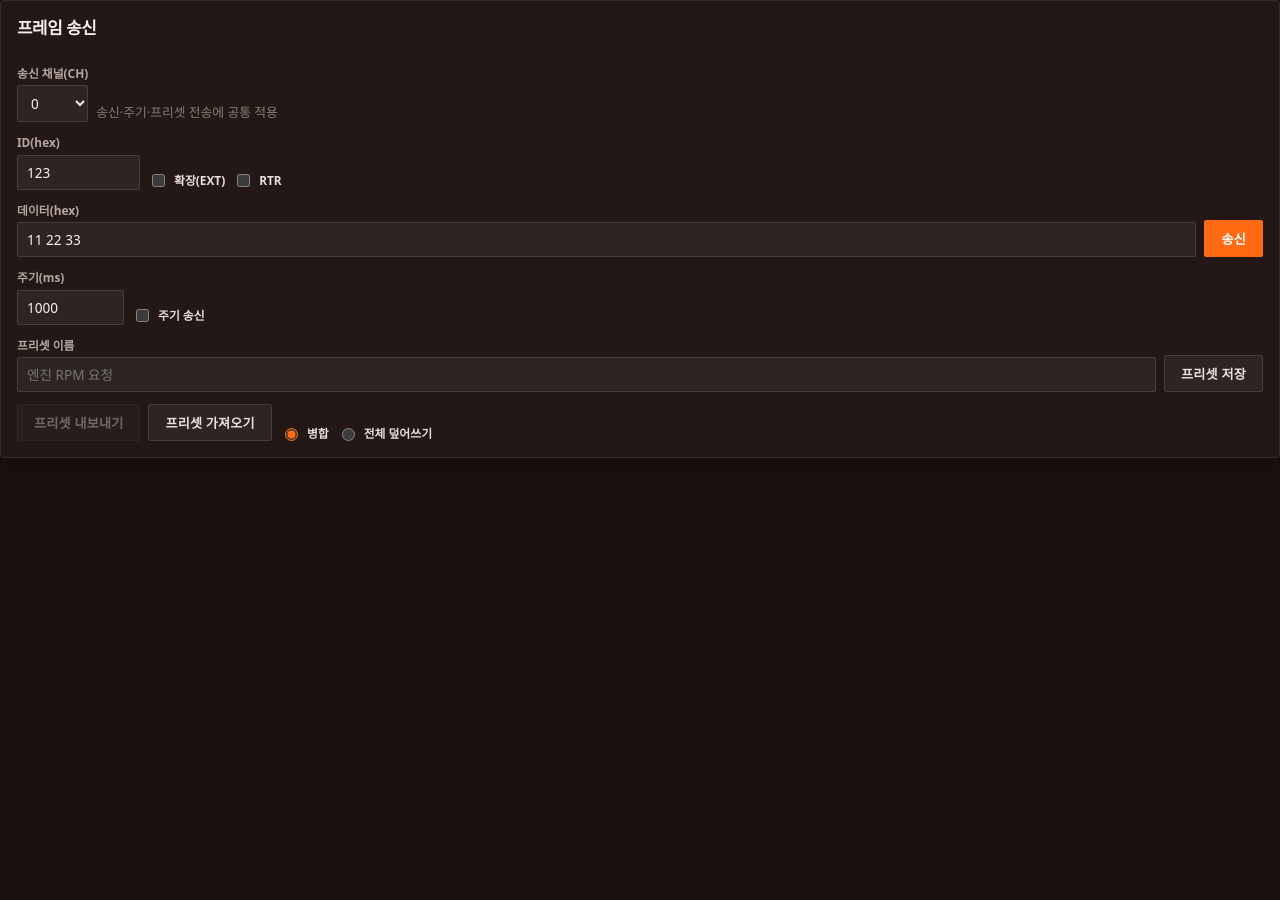
프리셋 저장 시 같은 이름 덮어쓰기 확인 › 같은 이름 저장 시 취소를 누르면 변화가 없다
The width and height of the screenshot is (1280, 900).
Step 1. Replace the text in the field labelled "ID(hex)" with "7DF" → (78, 172), box 17,155 -> 140,190
Step 2. Type "공통" into the field with placeholder "엔진 RPM 요청" → (587, 375), box 17,357 -> 1156,392
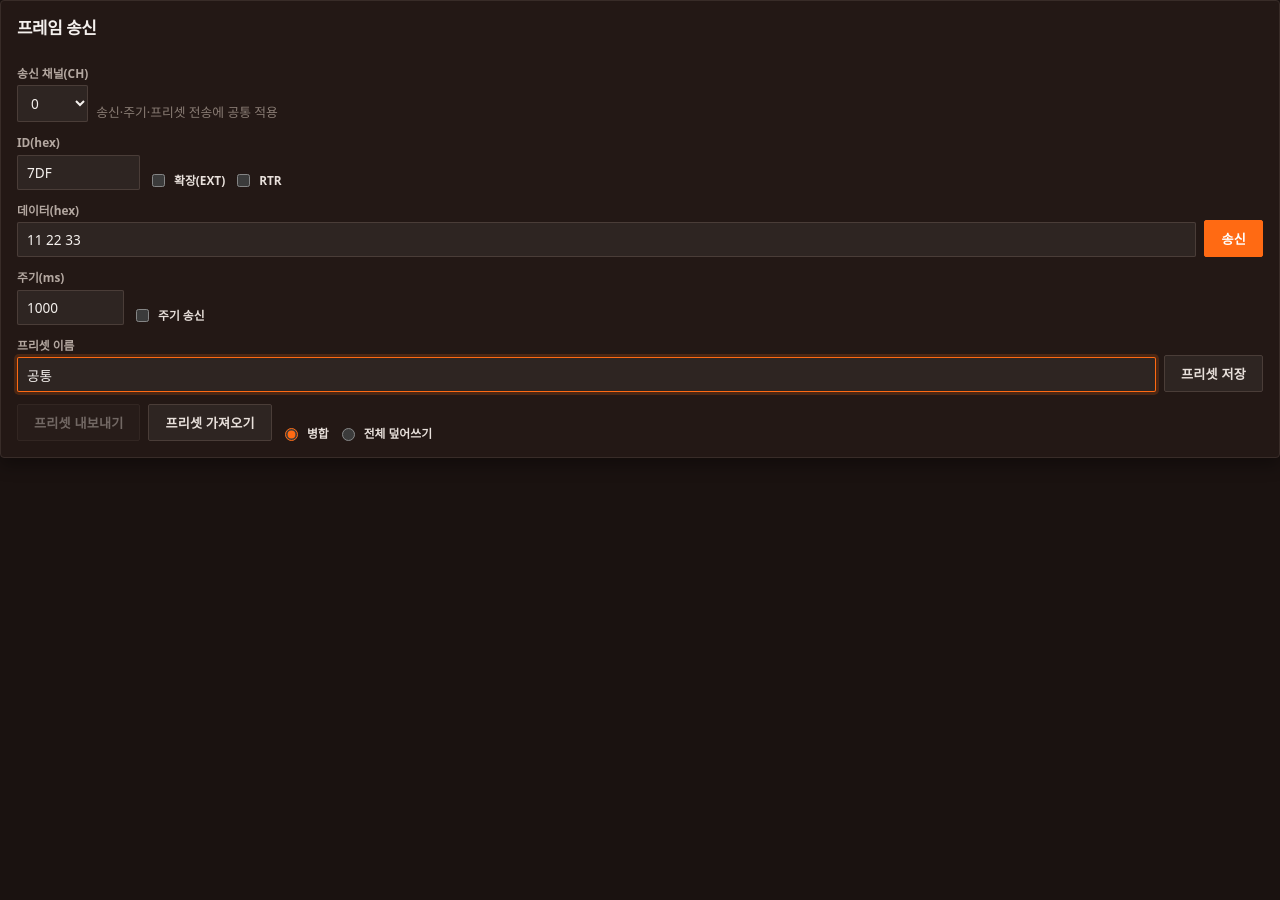
Step 3. Click the button "프리셋 저장" → click(1214, 374), box 1164,355 -> 1263,392
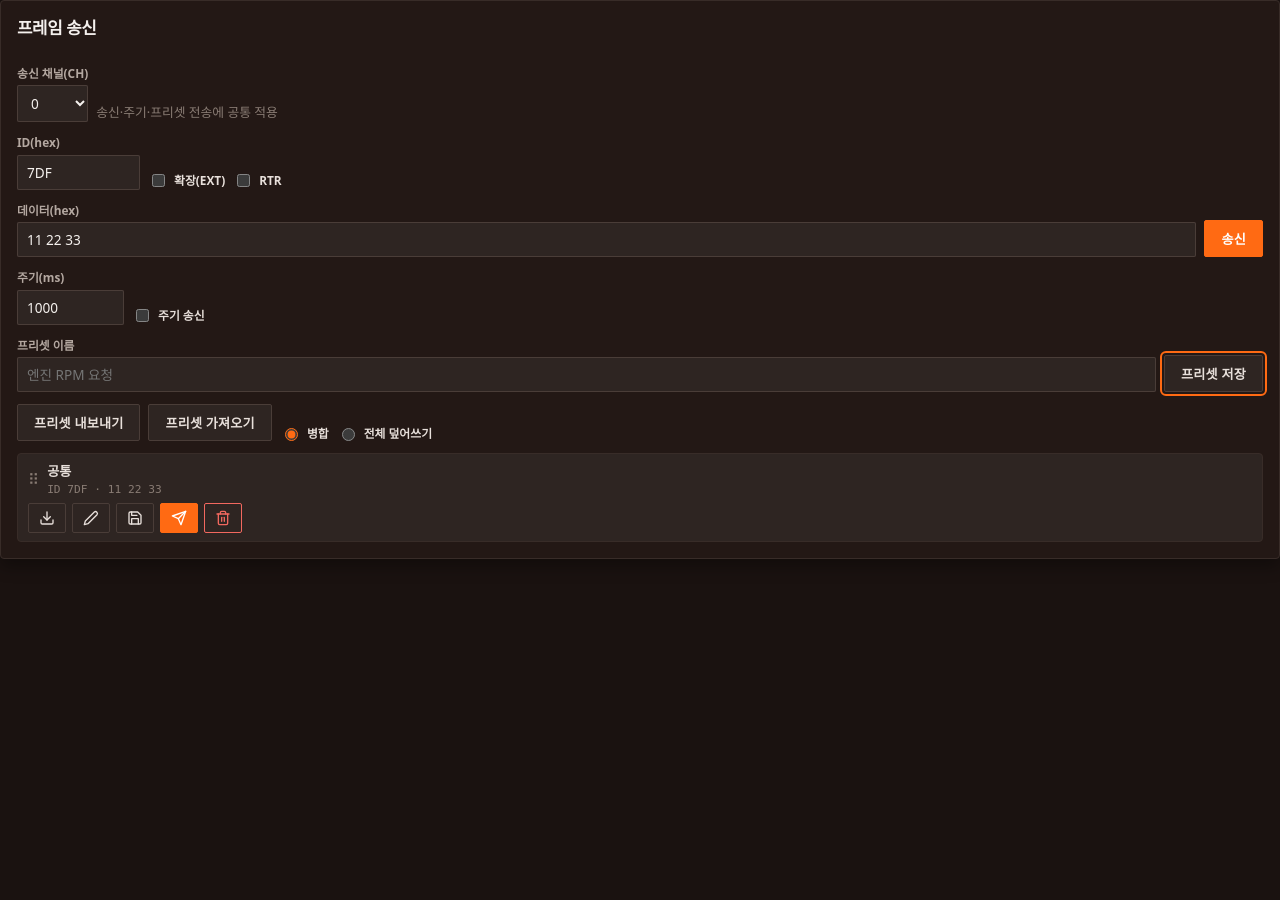
Step 4. Replace the text in the field labelled "ID(hex)" with "555" → (78, 172), box 17,155 -> 140,190
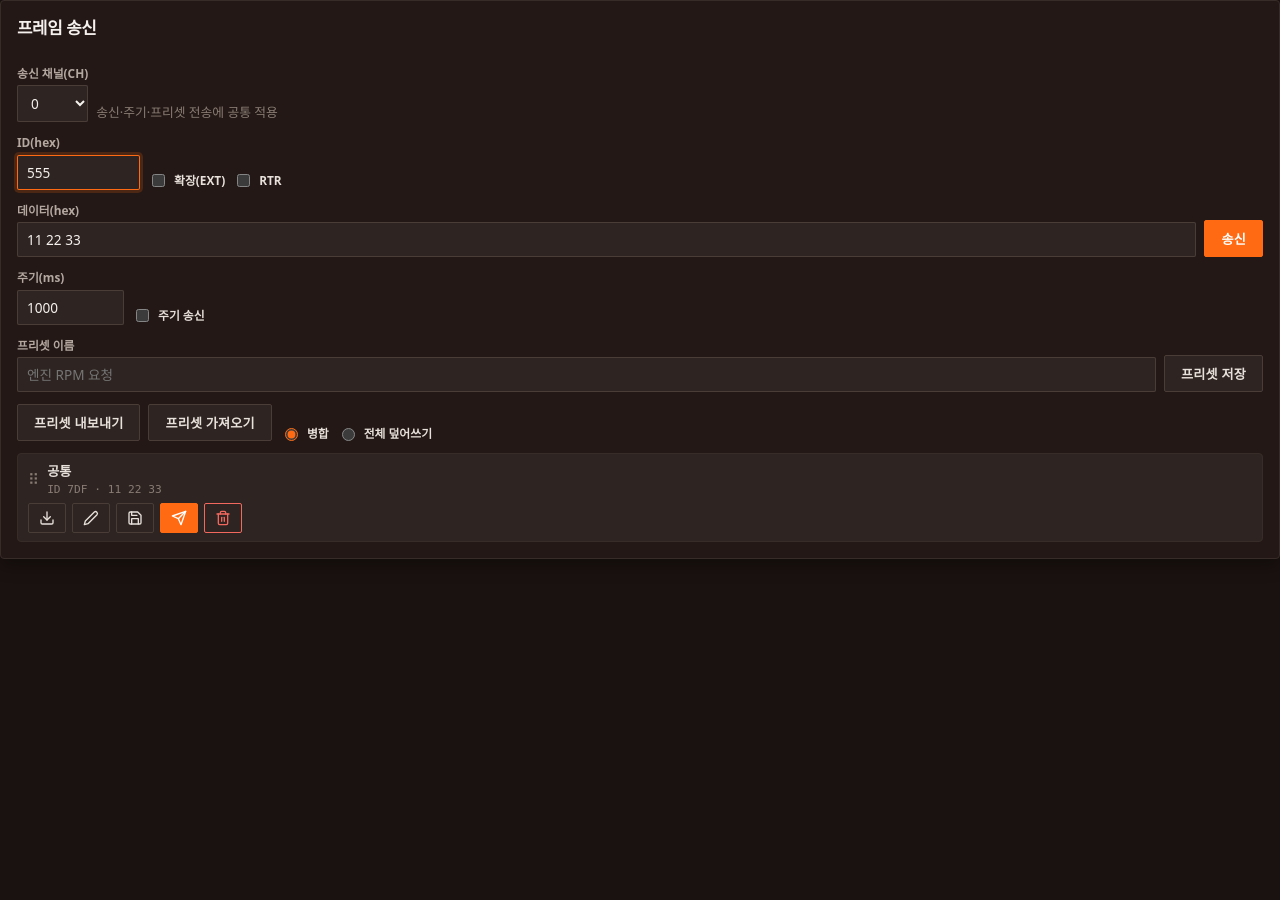
Step 5. Type "공통" into the field with placeholder "엔진 RPM 요청" → (587, 375), box 17,357 -> 1156,392
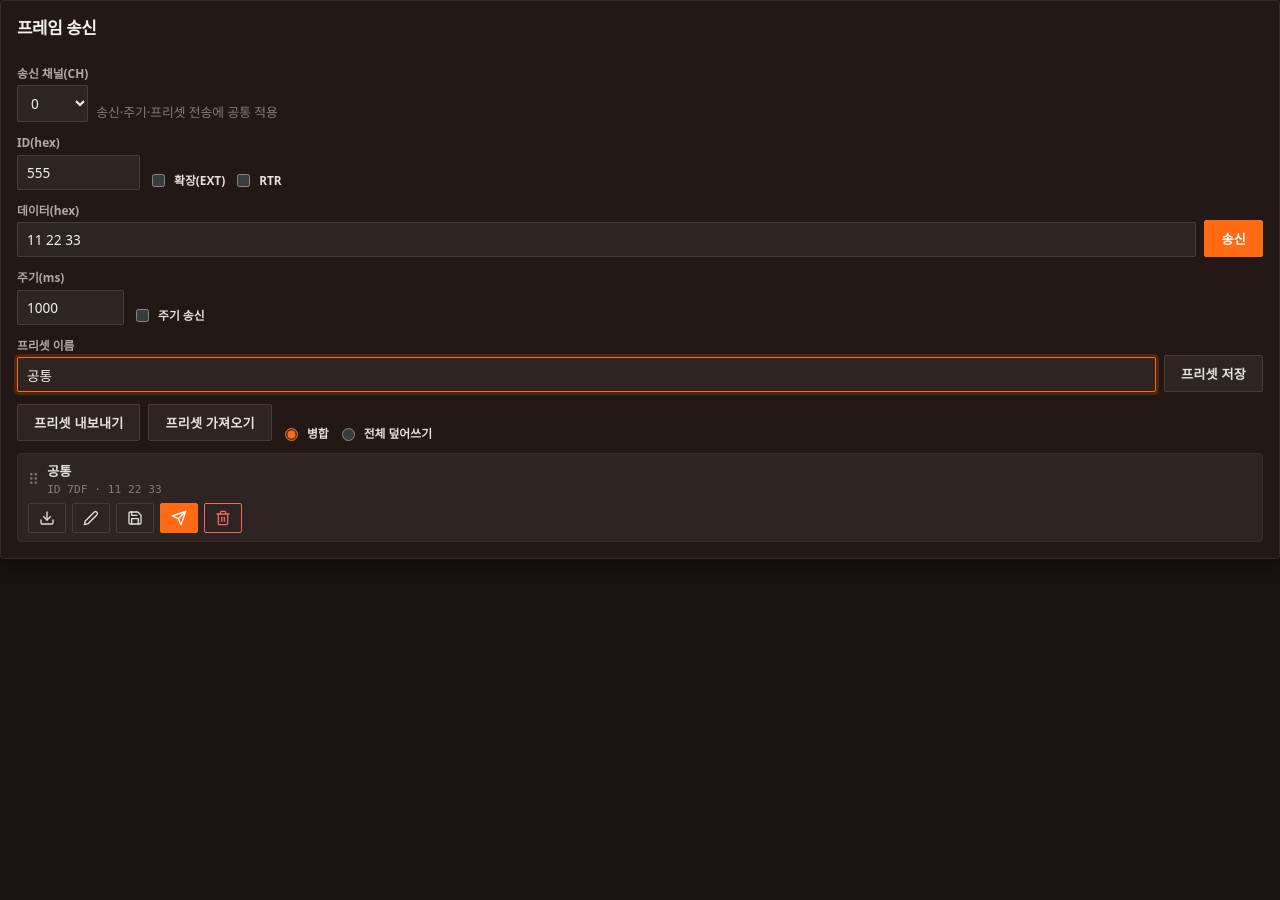
Step 6. Click the button "프리셋 저장" → click(1214, 374), box 1164,355 -> 1263,392
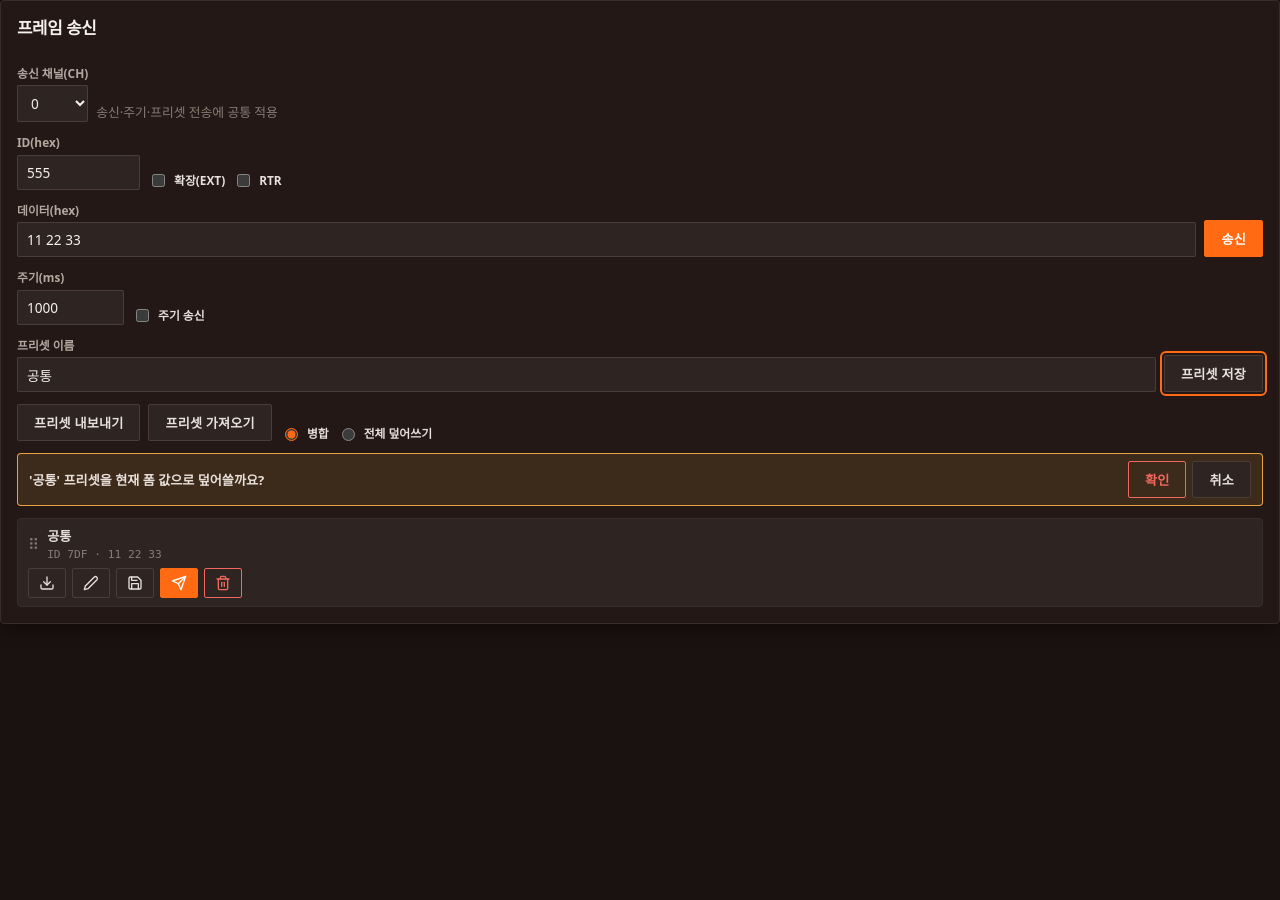
Step 7. Click the button "취소" → click(1222, 480), box 1192,461 -> 1251,498
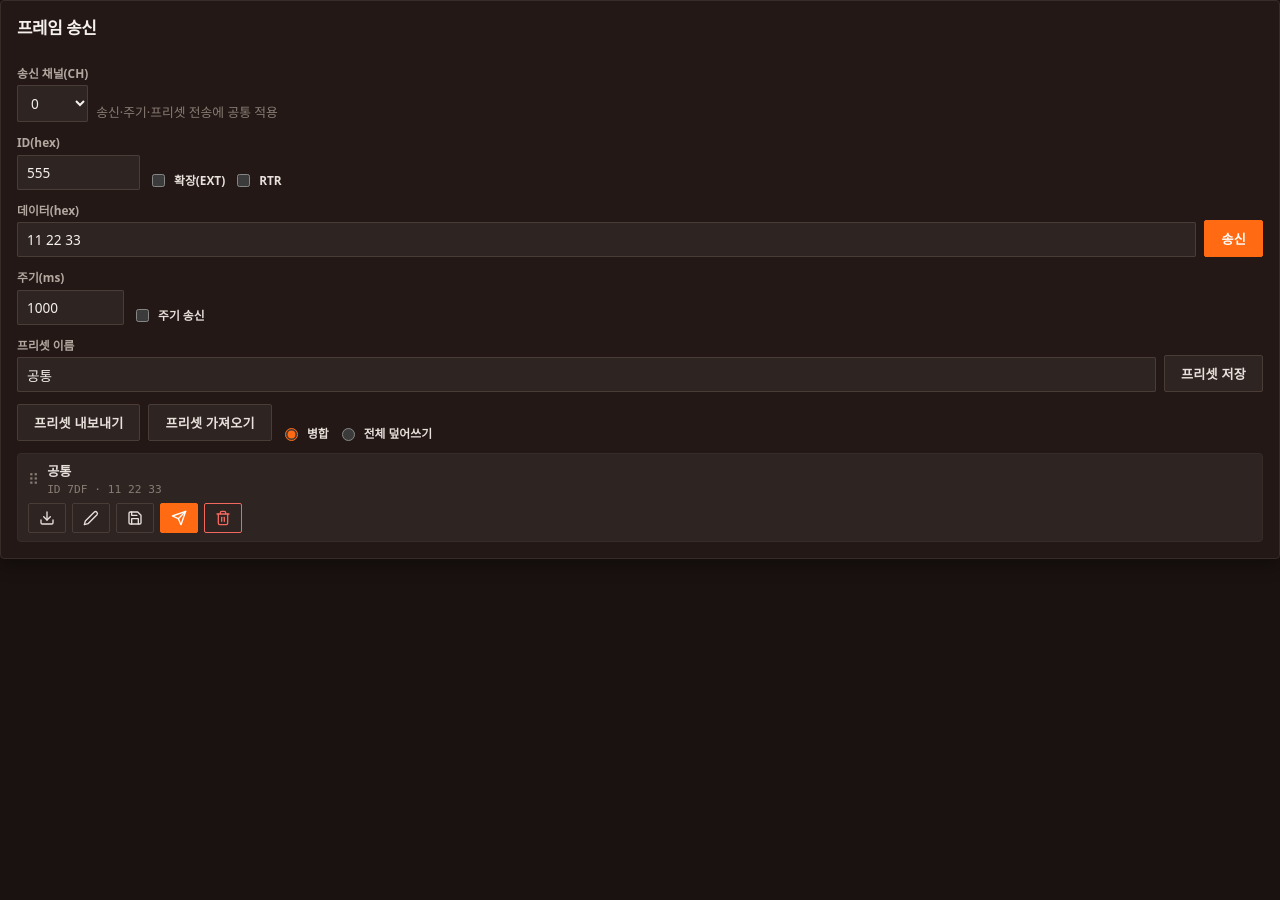
expect the text "공통" is shown once: met, box 47,462 -> 71,480
expect the dialog is gone: met
